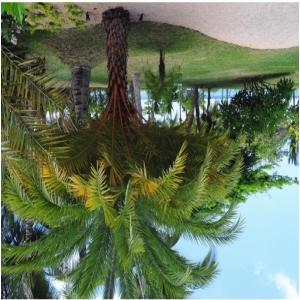palm tree: (1, 6, 298, 299)
